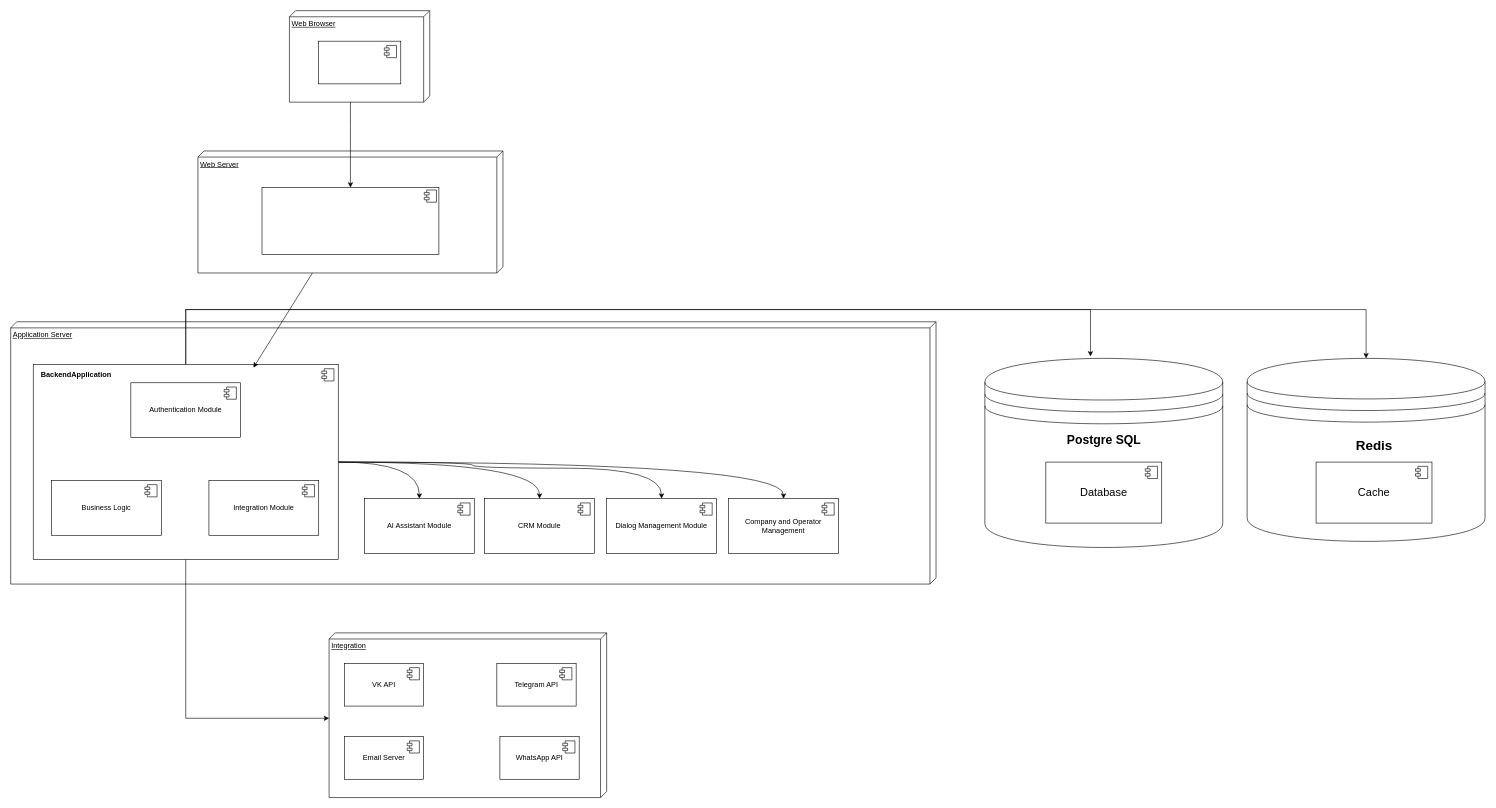
Image size: 1496x808. Some labels were removed from this diagram. The centre of each missing label's shape, as x and y in pixels:
"Server + Frontend Application + Static Content" goes at [350,221].
"User Interface" goes at [359,62].
